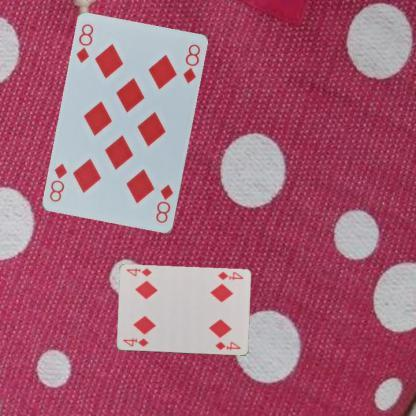4d: (120, 336, 149, 348), (215, 270, 244, 282)
8d: (153, 182, 175, 225), (74, 21, 95, 65)
